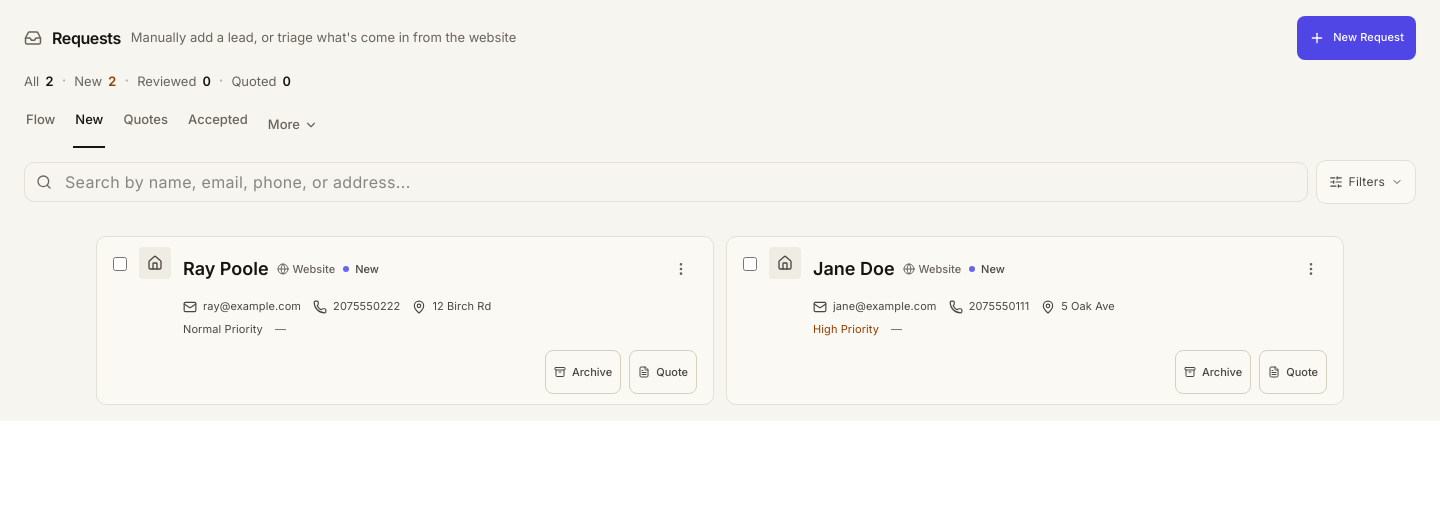
Requests — bulk archive and the per-row actions share one list › does not resurrect a lead archived while the batch was still in flight
The width and height of the screenshot is (1440, 512).
Click the 2nd checkbox named "Select lead": (750,264) left=743, top=257, right=757, bottom=271
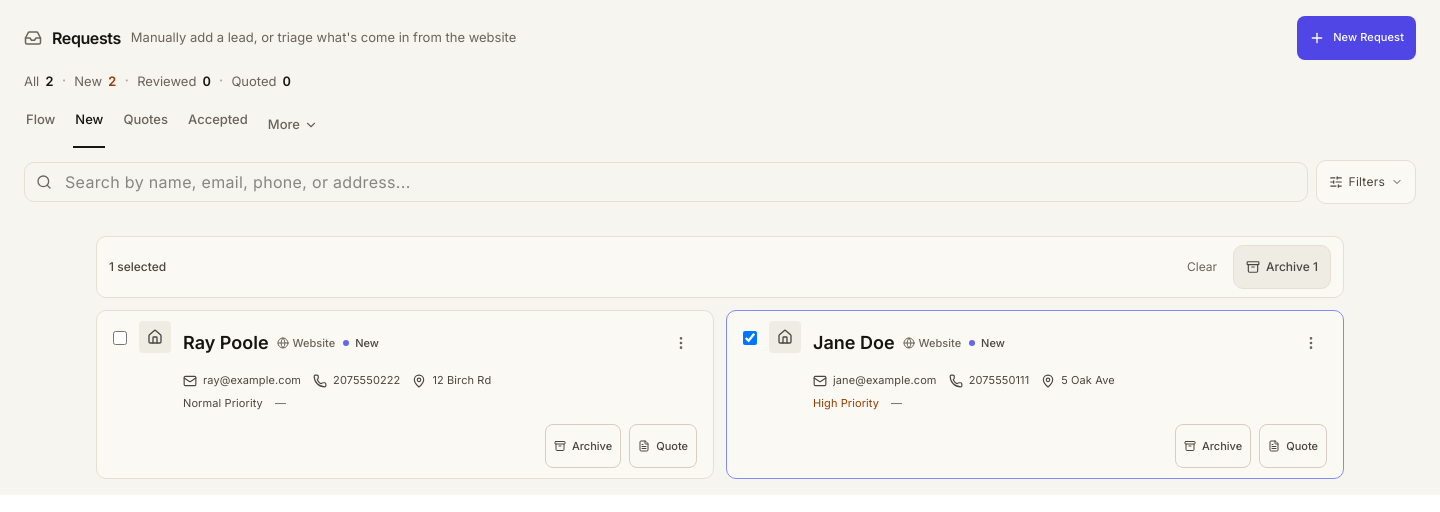
Click the button "Archive 1": (1282,267) left=1233, top=245, right=1331, bottom=289
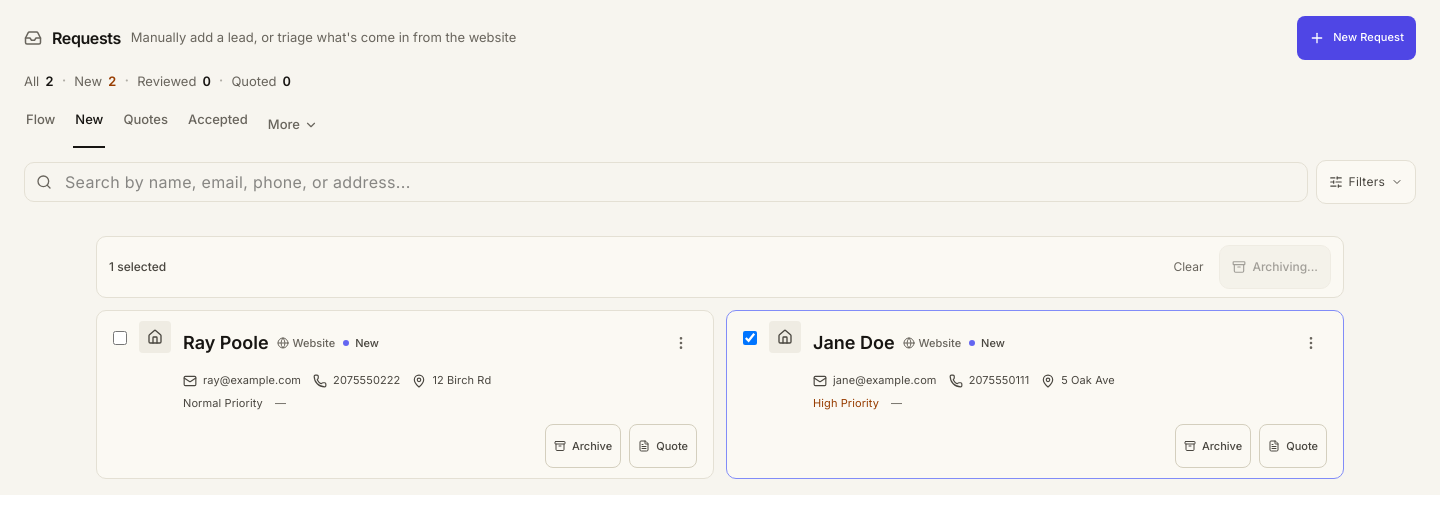
Expected: the button "Archiving..." is shown, left=1219, top=245, right=1331, bottom=289
Click the button "Archive" below "ray@example.com": (583,446) left=545, top=424, right=621, bottom=468
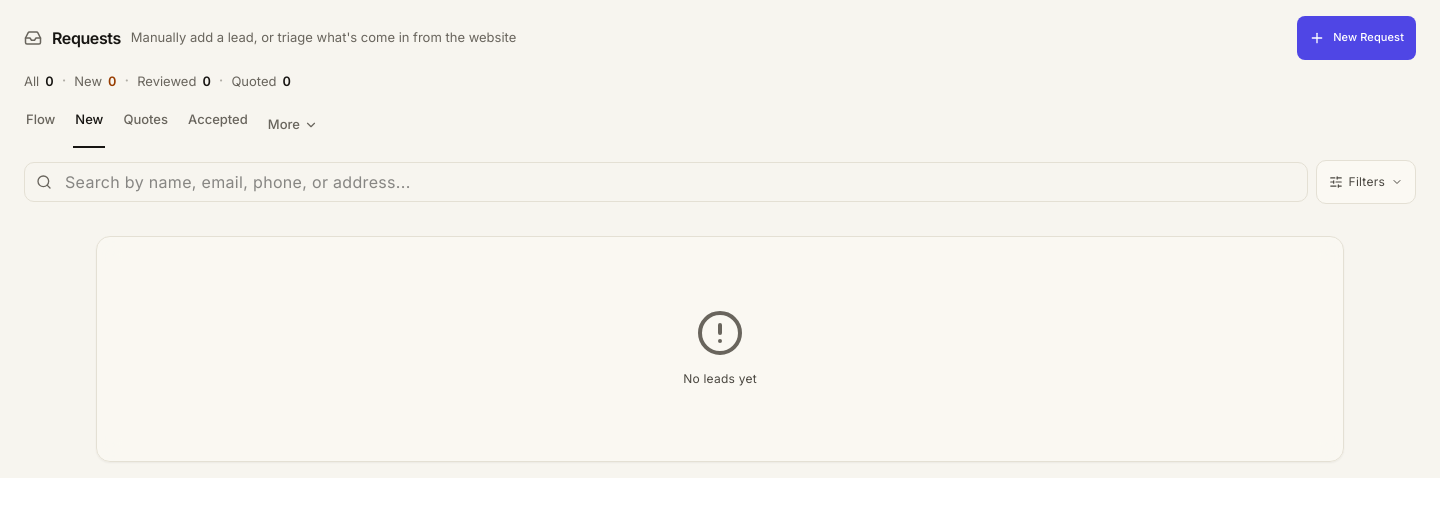
Expected: the button "Ray Poole" is gone
Expected: the button "Jane Doe" is gone
